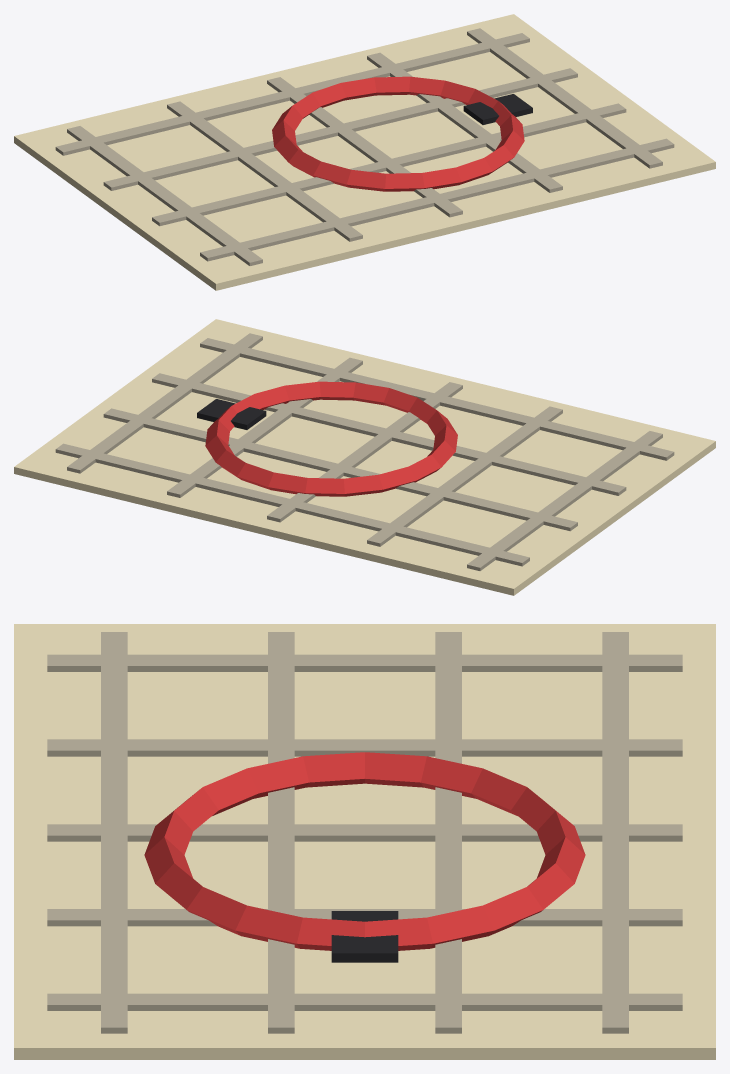
Rendered from garage_race_map.glb.
3 renders of one model, top to bottom at view 1: azimuth 30°, elevation 25°; view 2: azimuth 150°, elevation 25°; view 3: azimuth 270°, elevation 25°, orthographic. The views are drawn at different scales.
Visible parts, largest first — view 1: paper_map_paper, streets_map_street (×9), route_sign_red, finish_flash_black; view 2: paper_map_paper, streets_map_street (×9), route_sign_red, finish_flash_black; view 3: paper_map_paper, streets_map_street (×9), route_sign_red, finish_flash_black.
Boxes of the visible parts, x1,y1,x2,y2 form: paper_map_paper: (14, 14, 715, 290); streets_map_street (×9): (55, 28, 674, 265); route_sign_red: (272, 76, 524, 191); finish_flash_black: (463, 94, 532, 124); paper_map_paper: (14, 319, 715, 595); streets_map_street (×9): (55, 333, 674, 570); route_sign_red: (205, 381, 457, 496); finish_flash_black: (197, 399, 266, 429); paper_map_paper: (14, 624, 715, 1059); streets_map_street (×9): (47, 632, 682, 1033); route_sign_red: (144, 752, 585, 950); finish_flash_black: (331, 911, 398, 962).
Bounding box in the file's own units: 0.3 × 0.013 × 0.21.
